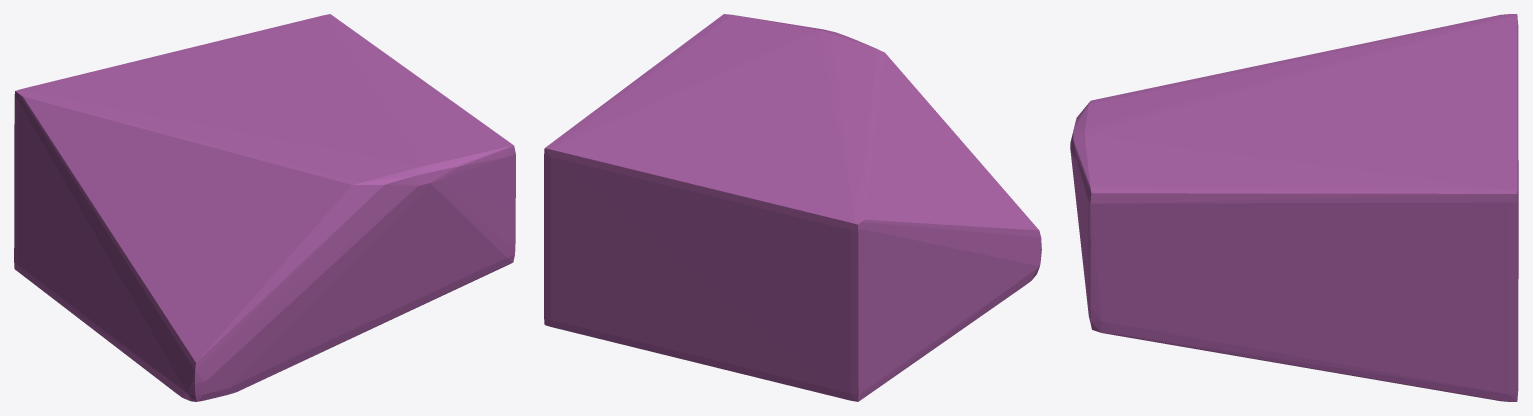
The model's file is right-hip-pitch-0_part_7.obj.
3 renders of one model, left to right at view 1: azimuth 30°, elevation 25°; view 2: azimuth 150°, elevation 25°; view 3: azimuth 270°, elevation 25°, orthographic. The views are drawn at different scales.
Size of the model in its own units: 0.0647 by 0.0363 by 0.0663.
